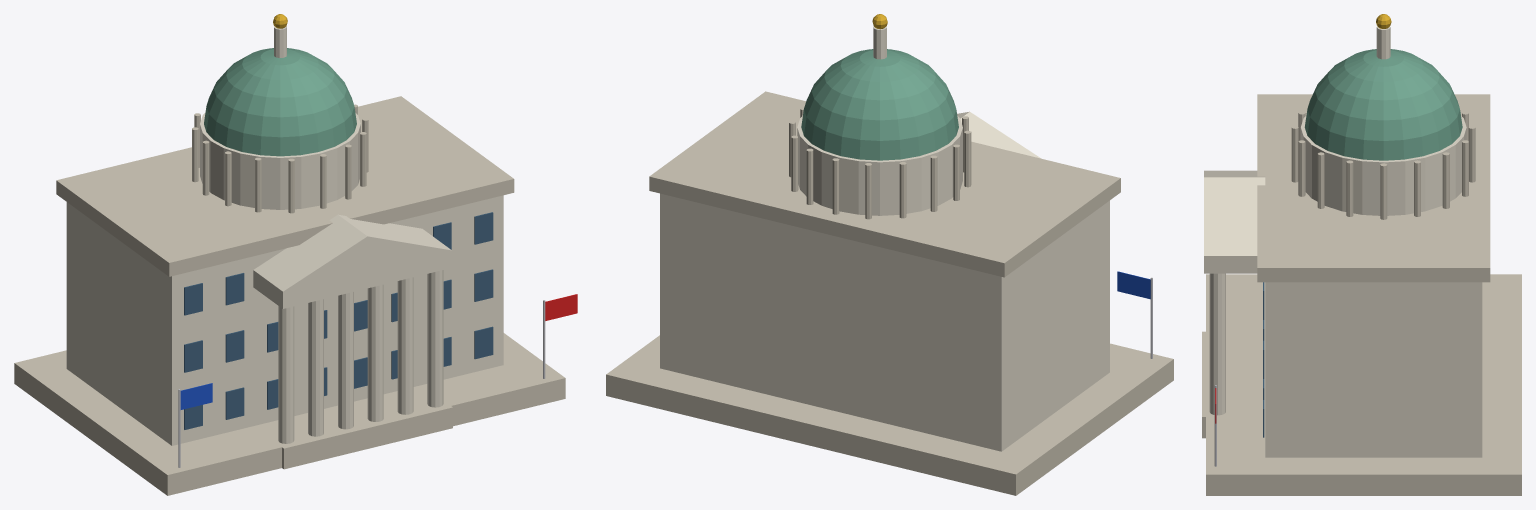
The model's file is gov_hall2.glb.
3 views of the same model, side by side, from view 1: azimuth 30°, elevation 25°; view 2: azimuth 150°, elevation 25°; view 3: azimuth 270°, elevation 25° (orthographic). The views are drawn at different scales.
Parts seen in each view (by area): view 1: box; view 2: box; view 3: box.
Boxes of the visible parts, x1,y1,x2,y2 form: box: (14, 14, 577, 495); box: (606, 14, 1173, 495); box: (1202, 14, 1521, 495).
Bounding box in the file's own units: 25 × 21.3 × 16.2.
